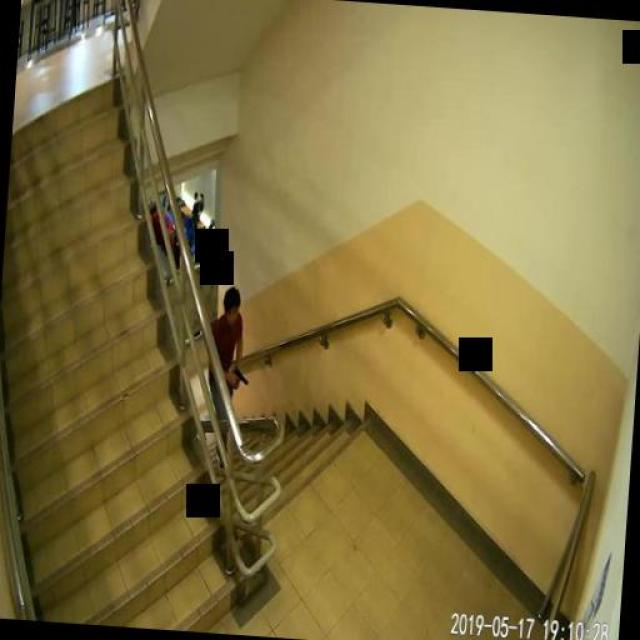gun: (230, 365, 248, 387)
